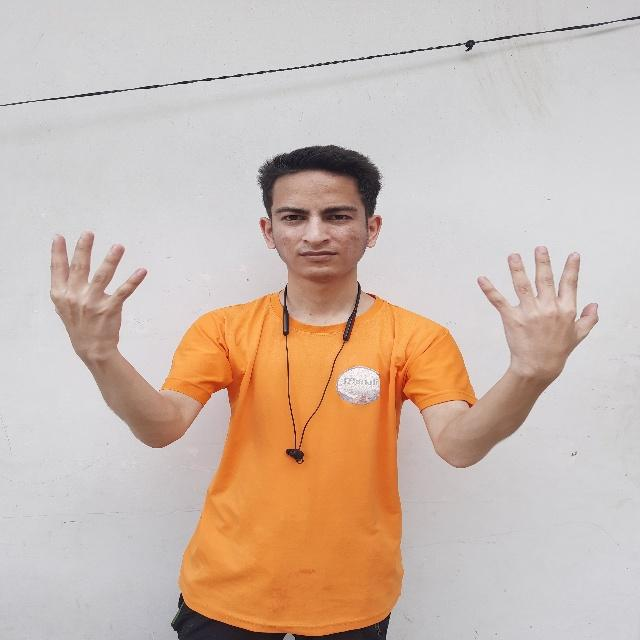Moutza: (468, 237, 604, 402), (42, 225, 160, 380)
